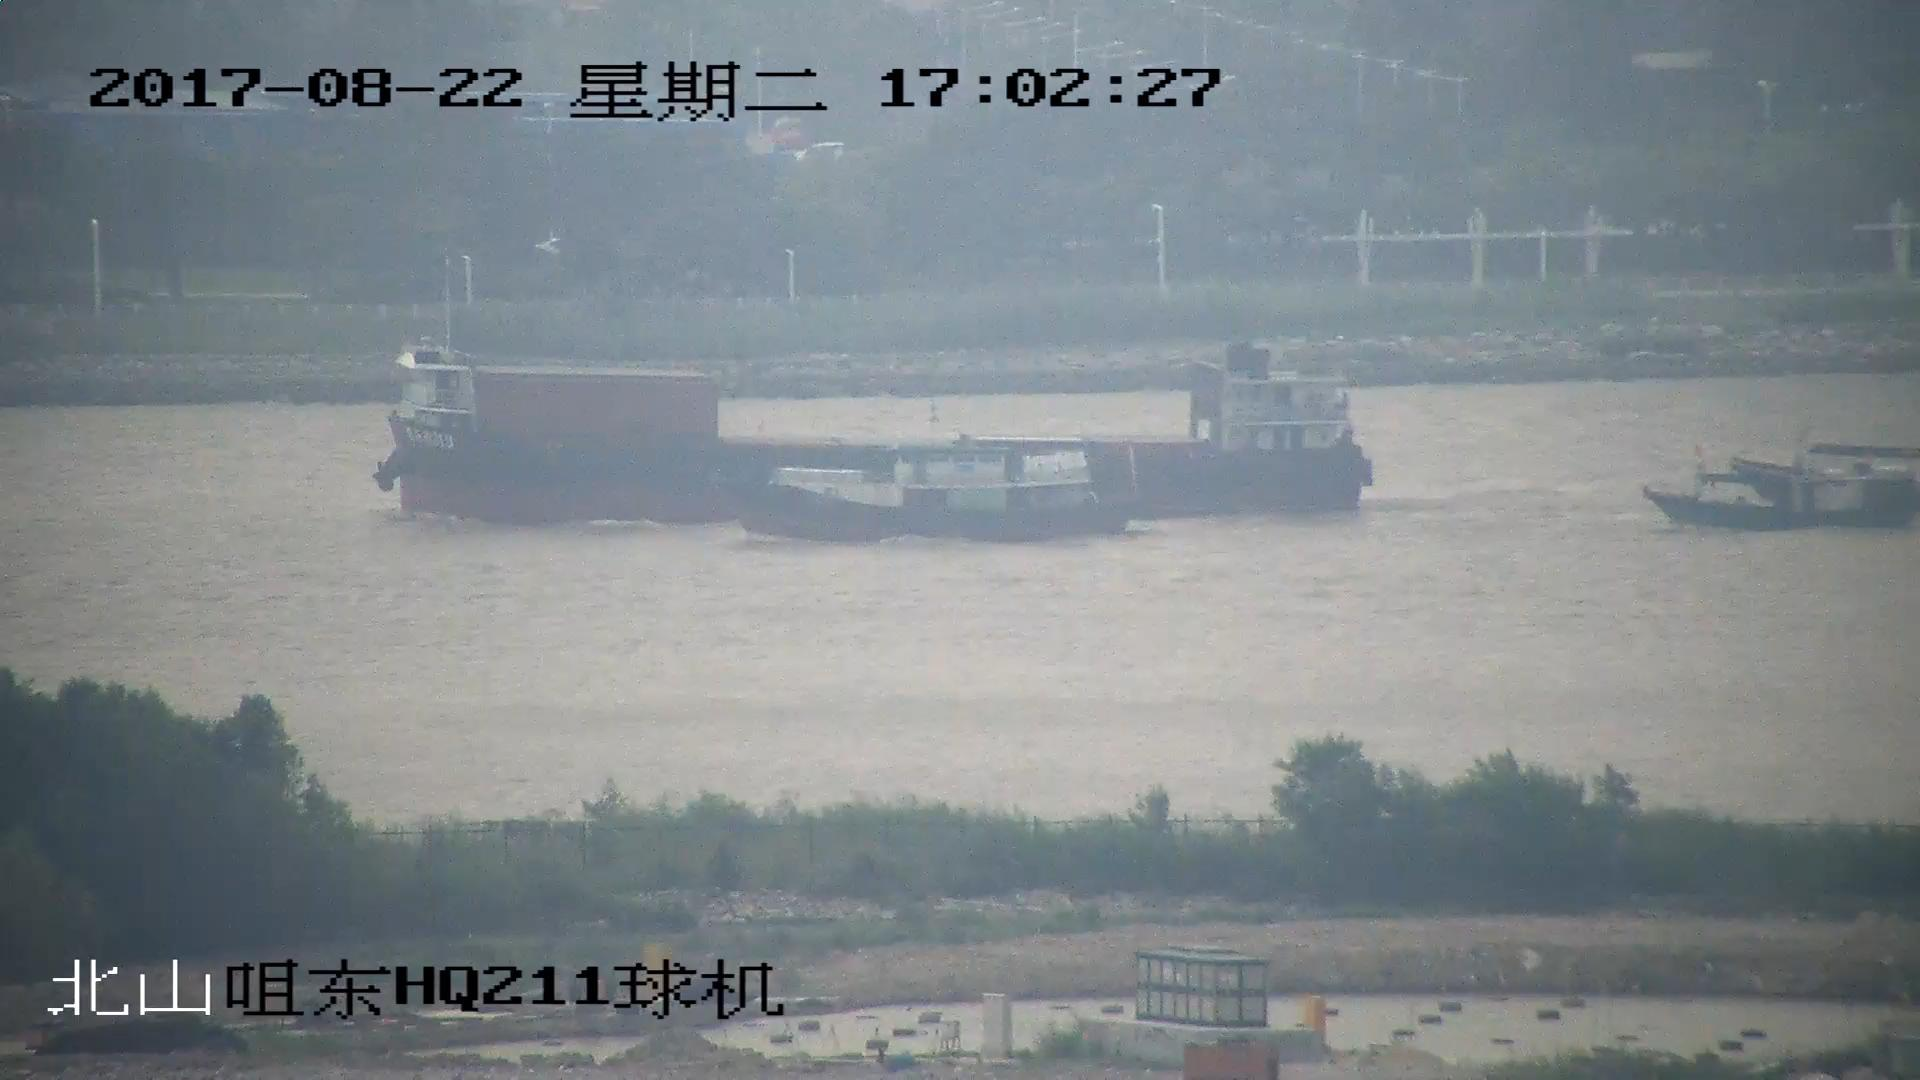Ship: (357, 326, 1373, 527), (720, 440, 1139, 542), (1647, 462, 1920, 530), (1695, 444, 1920, 504)
